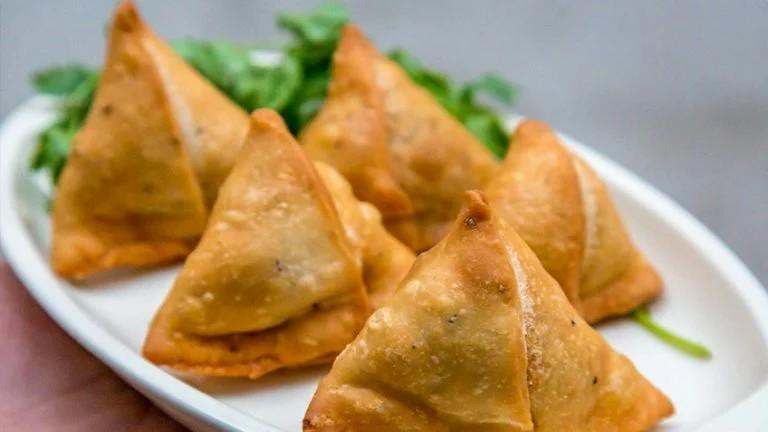Samosa: (298, 190, 674, 432), (140, 108, 423, 381), (392, 117, 666, 326), (52, 0, 254, 281), (295, 22, 503, 248)
